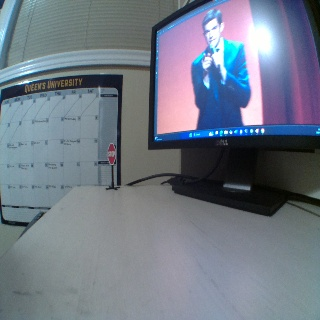sign_stop: (106, 143, 116, 165)
